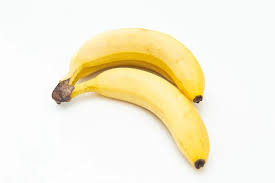banana: (51, 24, 210, 172)
